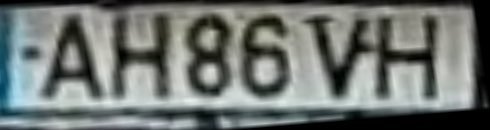6: (239, 12, 296, 103)
8: (182, 11, 238, 101)
A: (36, 11, 110, 103)
H: (374, 14, 443, 103), (110, 12, 177, 103)
V: (304, 15, 378, 106)
